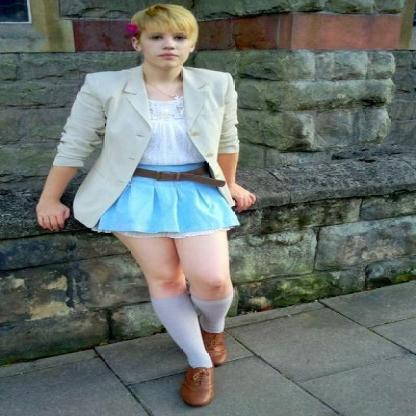jacket: (52, 58, 239, 232)
shirt: (137, 97, 204, 172)
shoe: (177, 324, 221, 407)
skirt: (99, 177, 239, 232)
